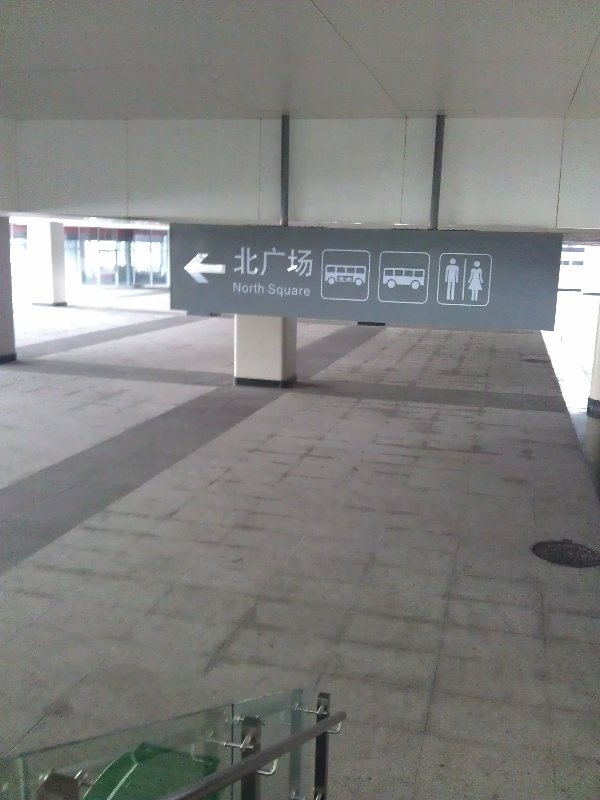text: (241, 246, 256, 278), (257, 246, 272, 278), (273, 246, 288, 278), (289, 246, 304, 278), (305, 246, 314, 278), (273, 284, 288, 301), (289, 284, 304, 301), (241, 282, 256, 294), (235, 246, 240, 278), (257, 282, 266, 294), (305, 284, 311, 301), (233, 282, 240, 294), (269, 284, 272, 301)
